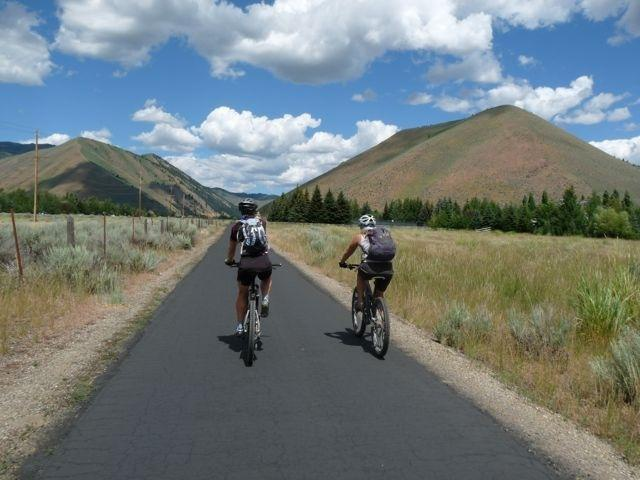non-vehicle: (222, 258, 283, 367), (338, 259, 390, 358)
